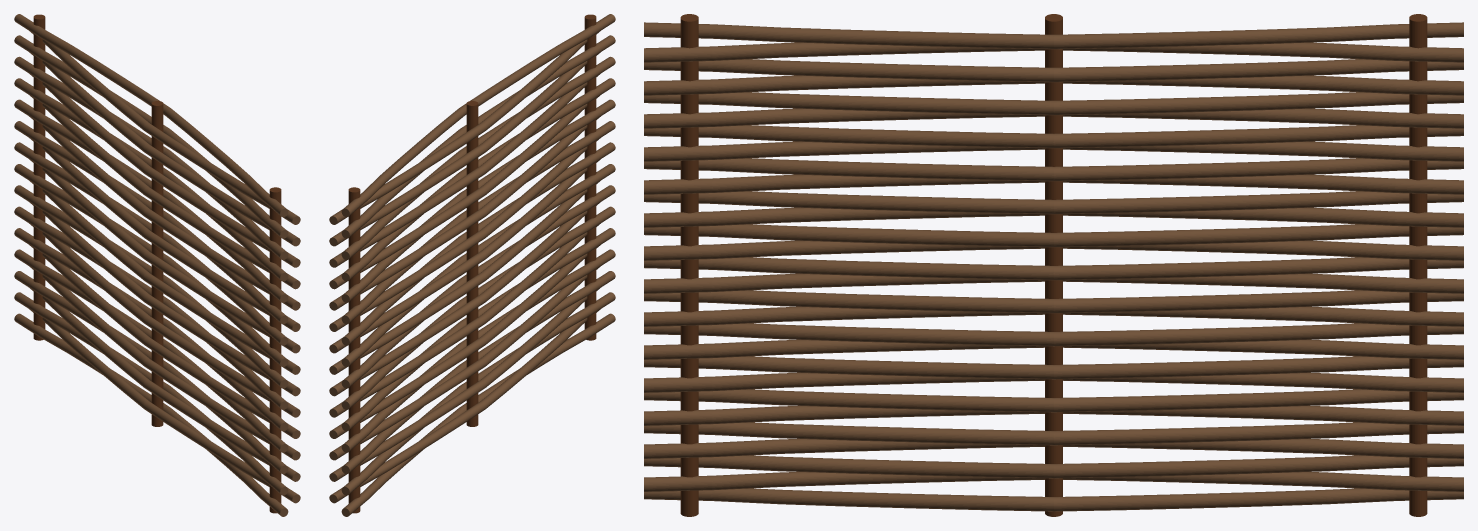
The model's file is Weaved_Fence.fbx.
3 views of the same model, side by side, from view 1: azimuth 30°, elevation 25°; view 2: azimuth 150°, elevation 25°; view 3: azimuth 270°, elevation 25° (orthographic). The views are drawn at different scales.
Parts seen in each view (by area): view 1: Weave.002, Weave.001, Pin.002, Pin.001, Pin.003; view 2: Weave.002, Weave.001, Pin.002, Pin.003, Pin.001; view 3: Weave.001, Weave.002, Pin.001, Pin.003, Pin.002.
Part boxes in pixels (left/top/right/bottom): Weave.002: left=29, top=31, right=300, bottom=503; Weave.001: left=14, top=14, right=288, bottom=516; Pin.002: left=151, top=101, right=163, bottom=426; Pin.001: left=33, top=14, right=45, bottom=340; Pin.003: left=269, top=187, right=281, bottom=513; Weave.002: left=329, top=31, right=600, bottom=503; Weave.001: left=341, top=14, right=615, bottom=516; Pin.002: left=466, top=101, right=478, bottom=426; Pin.003: left=584, top=14, right=596, bottom=340; Pin.001: left=348, top=187, right=360, bottom=513; Weave.001: left=644, top=22, right=1463, bottom=511; Weave.002: left=644, top=42, right=1463, bottom=491; Pin.001: left=1409, top=14, right=1427, bottom=516; Pin.003: left=680, top=14, right=698, bottom=516; Pin.002: left=1045, top=14, right=1062, bottom=516.
Size of the model in its own units: 14 by 150 by 225.
